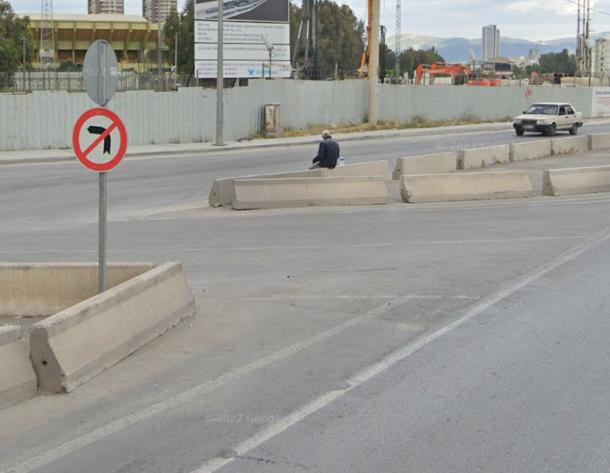leftturnsareforbidden: (68, 106, 131, 175)
